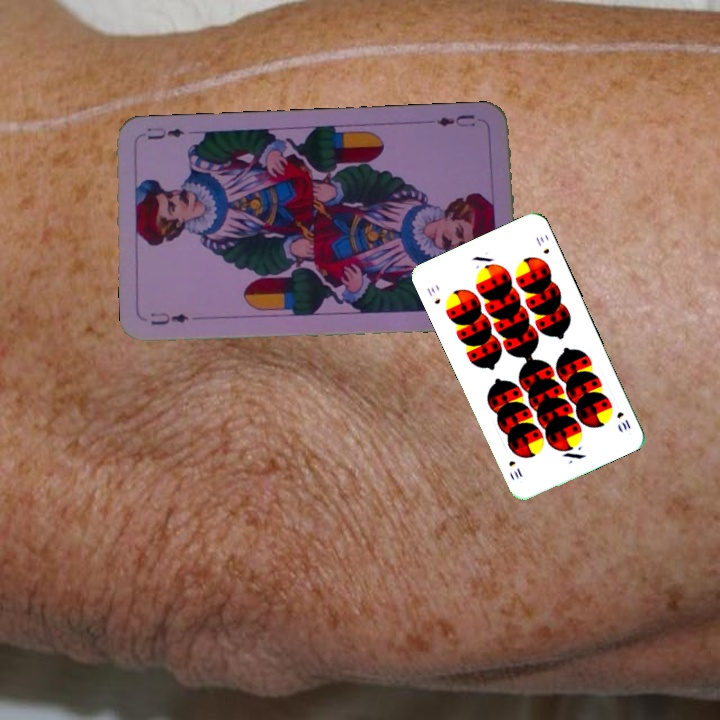EU: (146, 308, 191, 328), (432, 111, 478, 129)
S10: (613, 408, 633, 433), (423, 283, 443, 307)
